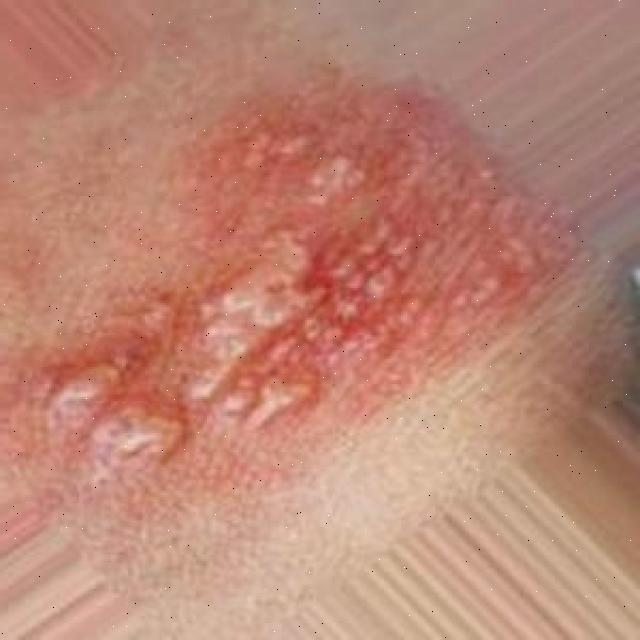Shingles: (26, 126, 524, 489)
